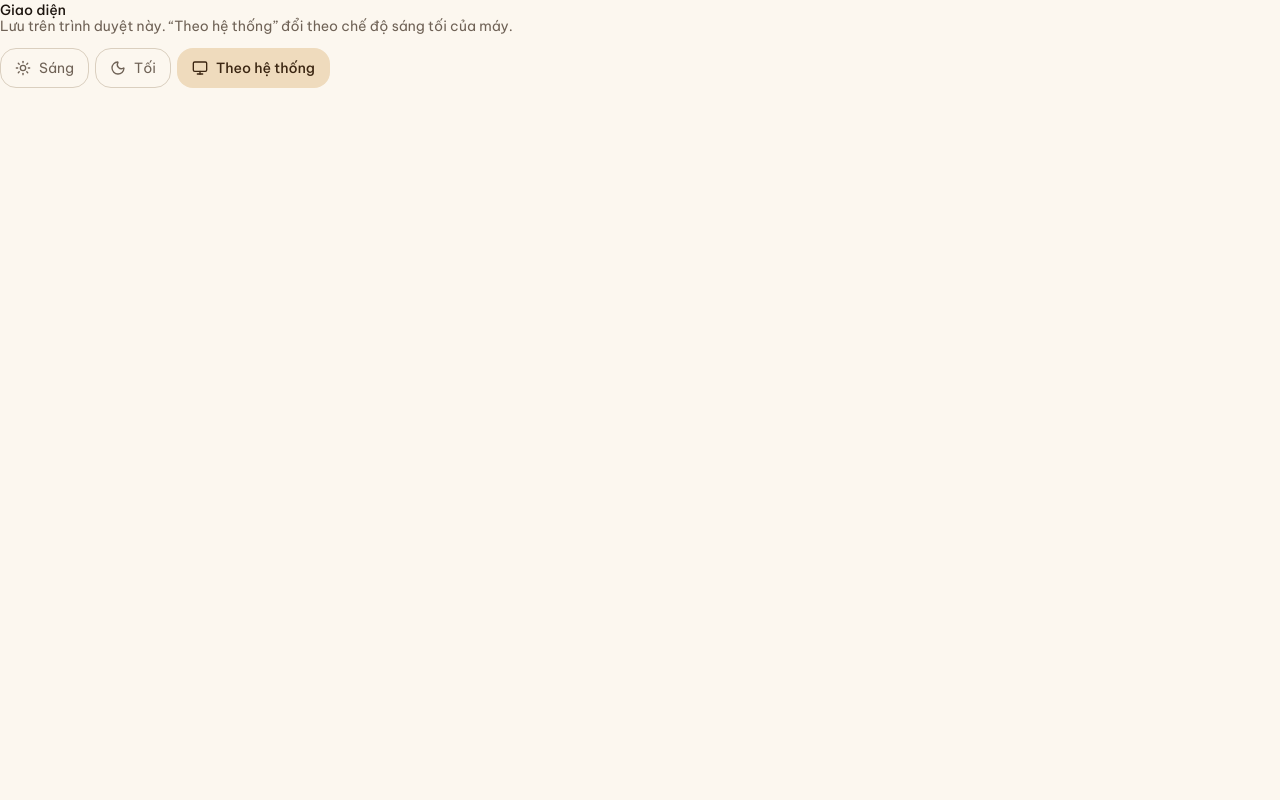
Test: ThemeField › saves the choice and switches the page right away
Later steps or results of the test are not shown.
Click the radio button labelled "Tối" at (133, 68), box [95,48,171,88]
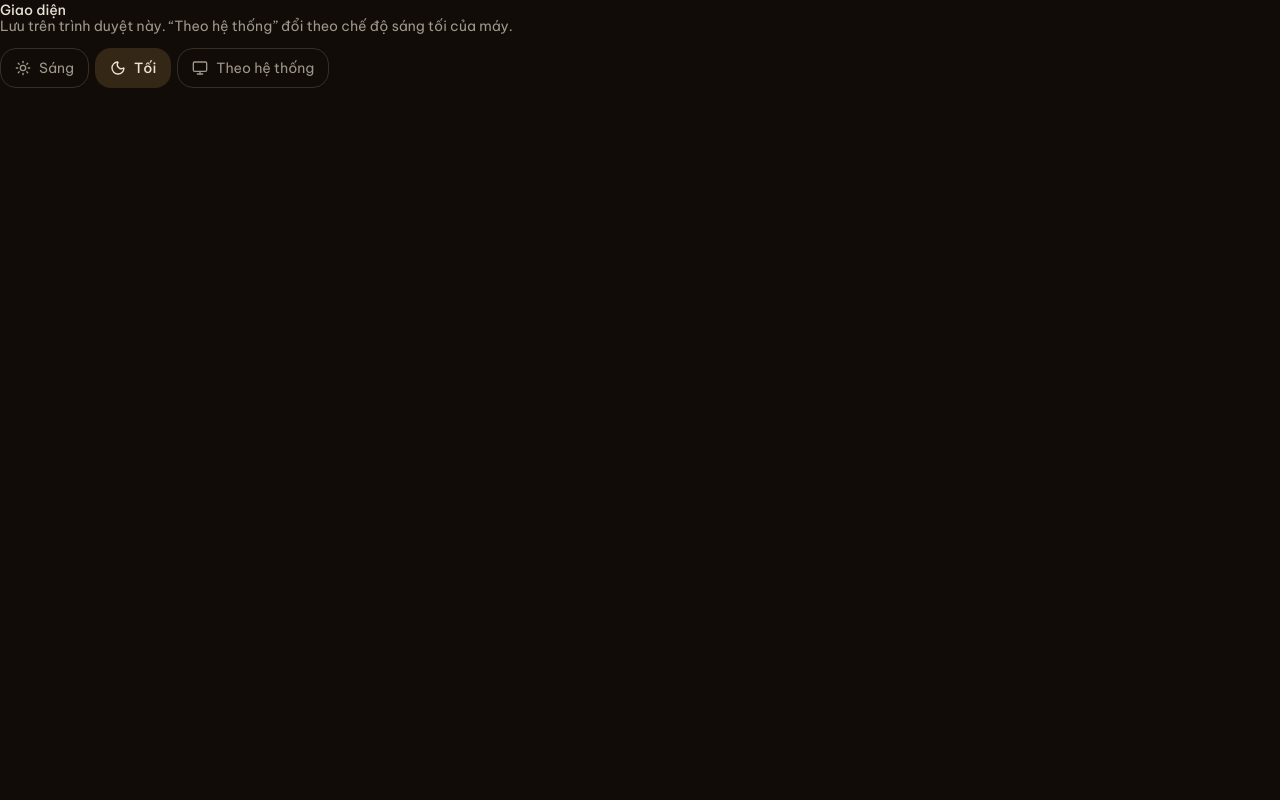
Check: the radio button labelled "Tối" is checked, box [95,48,171,88]
